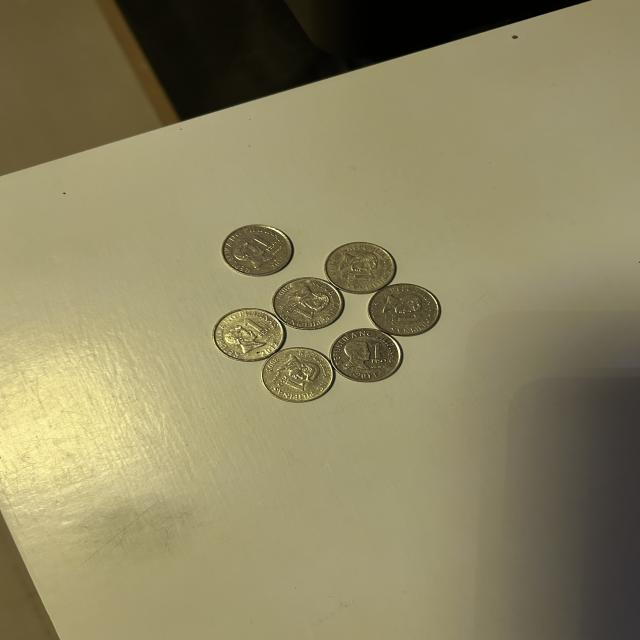1_Old_Front: (235, 314, 273, 340), (246, 233, 282, 256), (279, 373, 314, 395), (284, 300, 317, 321), (388, 309, 422, 328), (372, 338, 392, 369)
